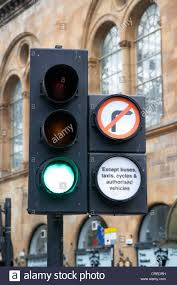No_right_turn: (96, 96, 141, 140)
